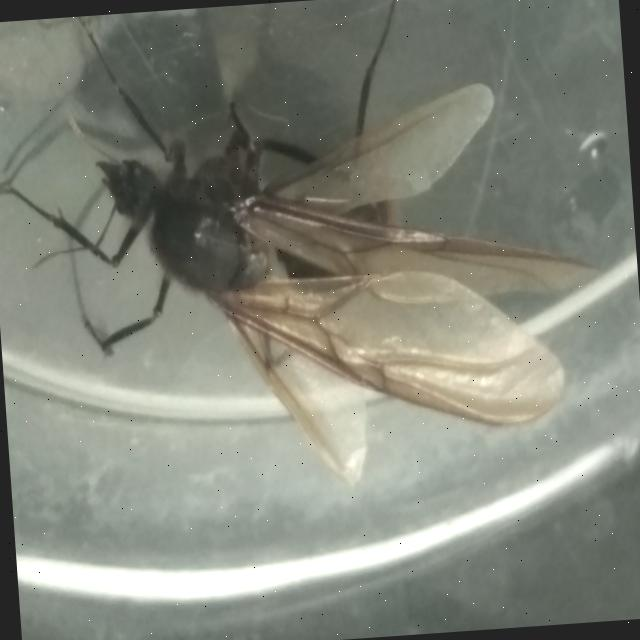Alive-Male-Alate: (0, 0, 613, 511)
